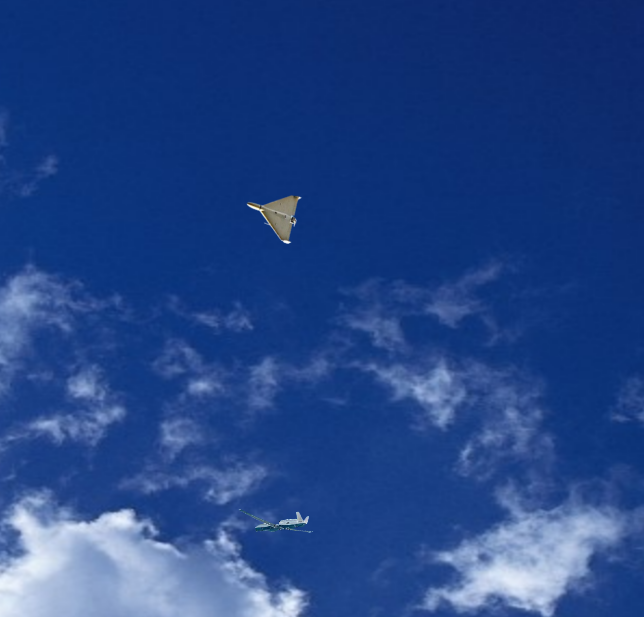military drone: (246, 194, 302, 244), (238, 508, 314, 533)
